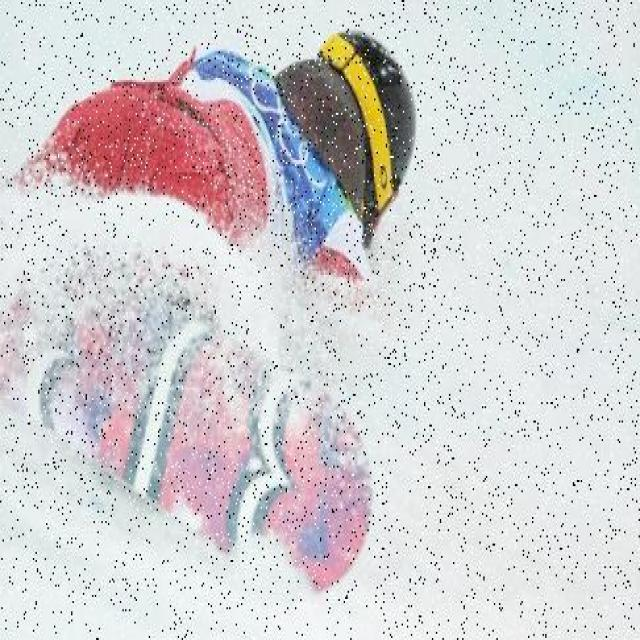fall: (36, 25, 440, 316)
